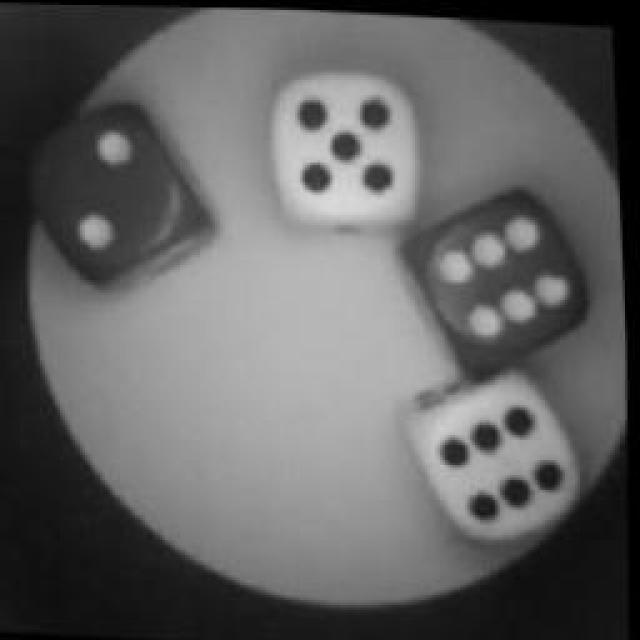dice_2: (15, 91, 210, 284)
dice_5: (264, 56, 428, 229)
dice_6: (402, 185, 596, 370), (398, 369, 594, 549)
